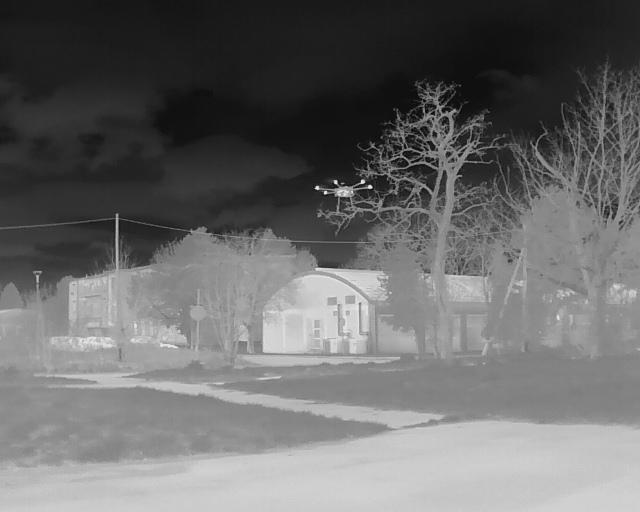drone: (309, 160, 382, 225)
